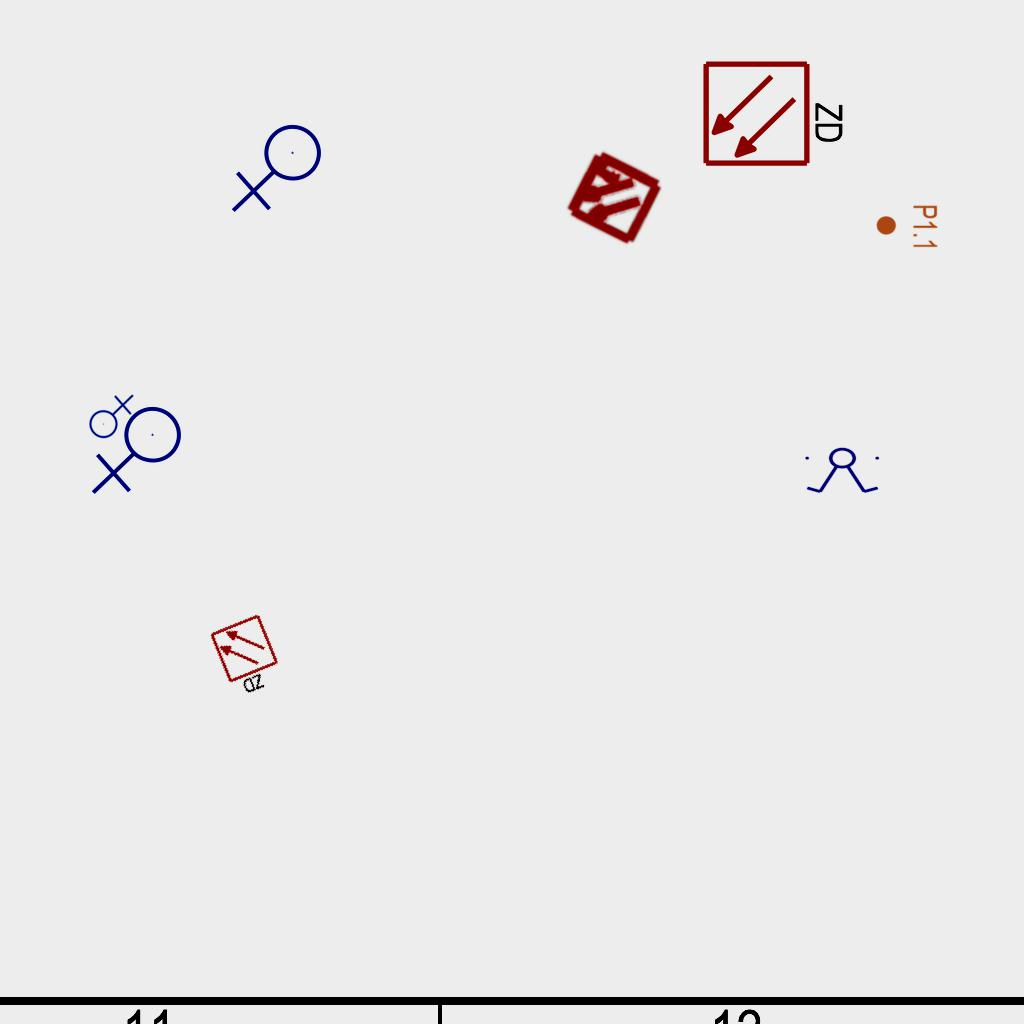Downlight_LED_Einbauleuchten_Flur: (875, 204, 939, 250)
Elektroanschluss_allgemein_230V_Geraeteanschlussdose_230V: (231, 123, 330, 217), (91, 405, 190, 499), (85, 392, 134, 439)
OT_Multisensormelder_(Kombination_RMO_WMD): (536, 120, 689, 273)
Serienschalter: (801, 447, 885, 495)
ZD_Melder_in_Zwischendecke_mit_Revisionsoeffnung_mind_40_x_40_cm: (701, 55, 850, 169), (208, 612, 289, 702)
